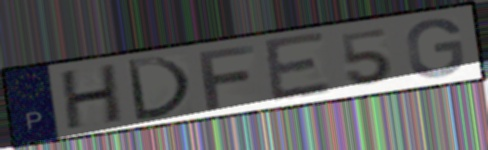5: (337, 26, 395, 88)
D: (123, 55, 195, 124)
E: (260, 30, 335, 106)
F: (195, 42, 258, 112)
G: (404, 16, 467, 80)
H: (59, 60, 124, 133)
